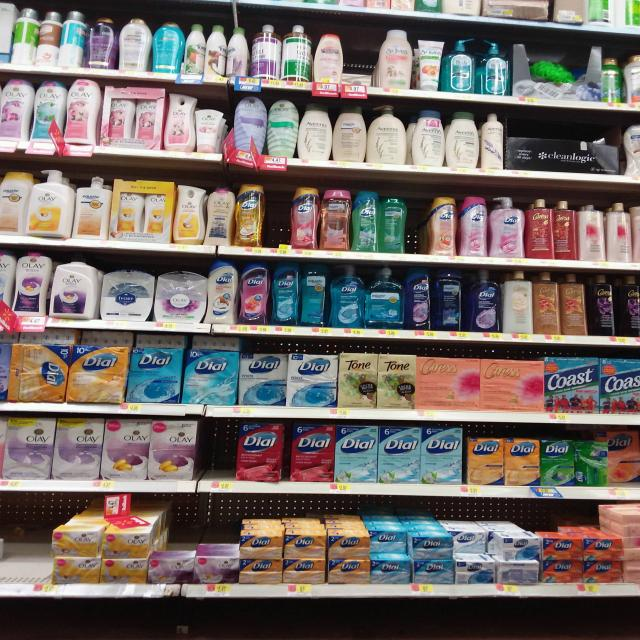void: (202, 418, 230, 479), (350, 28, 374, 84)
